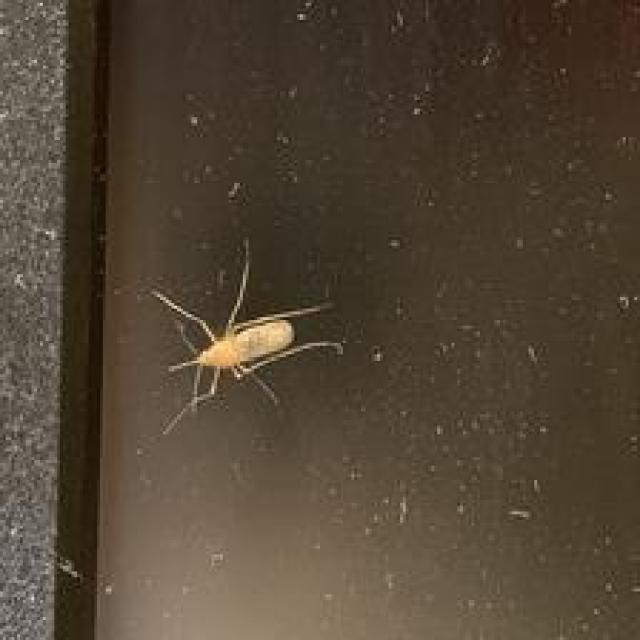Culex: (147, 234, 344, 437)
